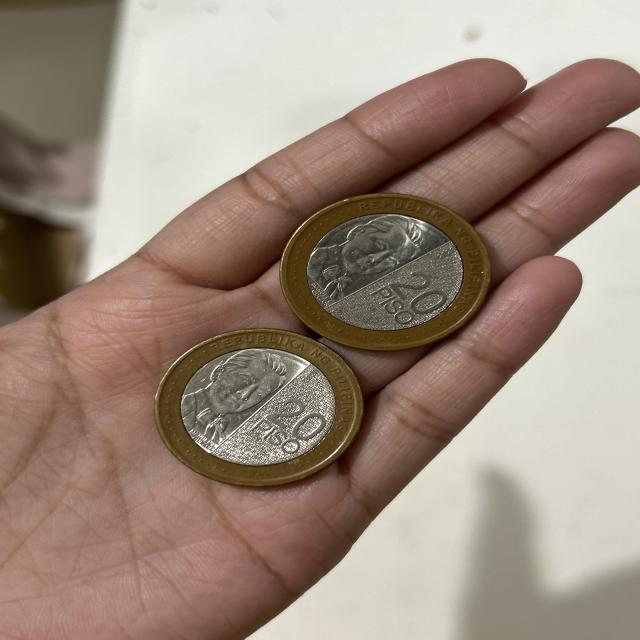20_New_Front: (366, 267, 448, 333), (248, 393, 320, 459)
